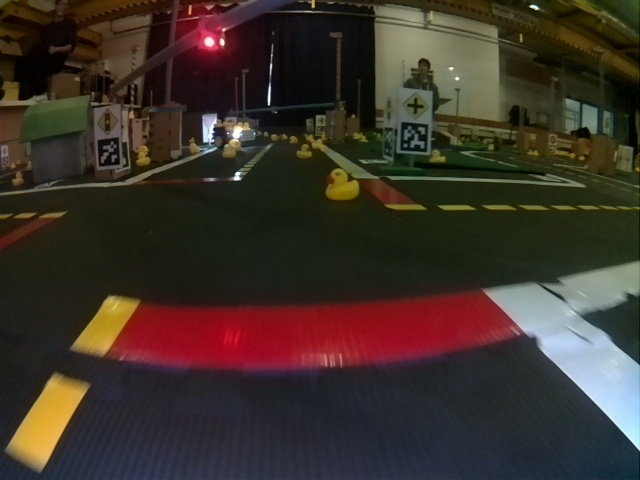Duckie: (326, 169, 359, 200), (431, 150, 445, 163), (298, 146, 311, 158), (139, 156, 150, 166), (189, 143, 198, 153), (314, 139, 323, 148), (290, 136, 298, 143), (270, 135, 277, 140)
Duckiebot: (214, 127, 254, 147)
Intersection sign: (402, 92, 429, 120)
QR code: (401, 123, 429, 153), (96, 138, 120, 167), (383, 126, 393, 156)
Signal sign: (96, 109, 120, 135)
Traffic light: (199, 17, 226, 51)
